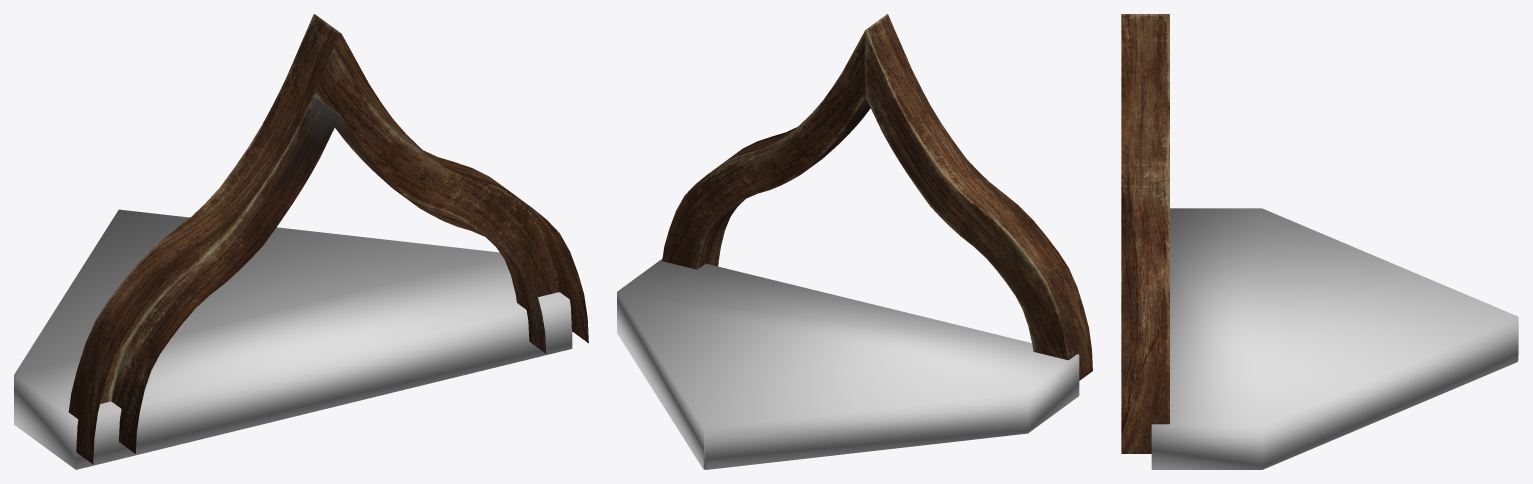
The model's file is SM_Bar_Baked_SM_C.fbx.
3 renders of one model, left to right at view 1: azimuth 30°, elevation 25°; view 2: azimuth 150°, elevation 25°; view 3: azimuth 270°, elevation 25°, orthographic. The views are drawn at different scales.
Visible parts, largest first — view 1: SM_Bar_Baked_SM_C_ConvexHulls, SM_Bar_Baked_SM_C; view 2: SM_Bar_Baked_SM_C_ConvexHulls, SM_Bar_Baked_SM_C; view 3: SM_Bar_Baked_SM_C_ConvexHulls, SM_Bar_Baked_SM_C.
Boxes of the visible parts, left/top/right/bottom form: SM_Bar_Baked_SM_C_ConvexHulls: left=14, top=209, right=572, bottom=469; SM_Bar_Baked_SM_C: left=68, top=14, right=588, bottom=464; SM_Bar_Baked_SM_C_ConvexHulls: left=617, top=259, right=1079, bottom=469; SM_Bar_Baked_SM_C: left=662, top=14, right=1092, bottom=380; SM_Bar_Baked_SM_C_ConvexHulls: left=1151, top=208, right=1518, bottom=469; SM_Bar_Baked_SM_C: left=1121, top=14, right=1169, bottom=453.
Size of the model in its own units: 1.61 by 1.2 by 1.24.
